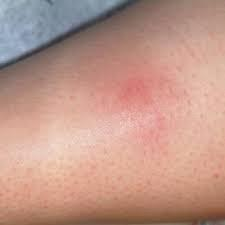Spider: (115, 70, 153, 111)
